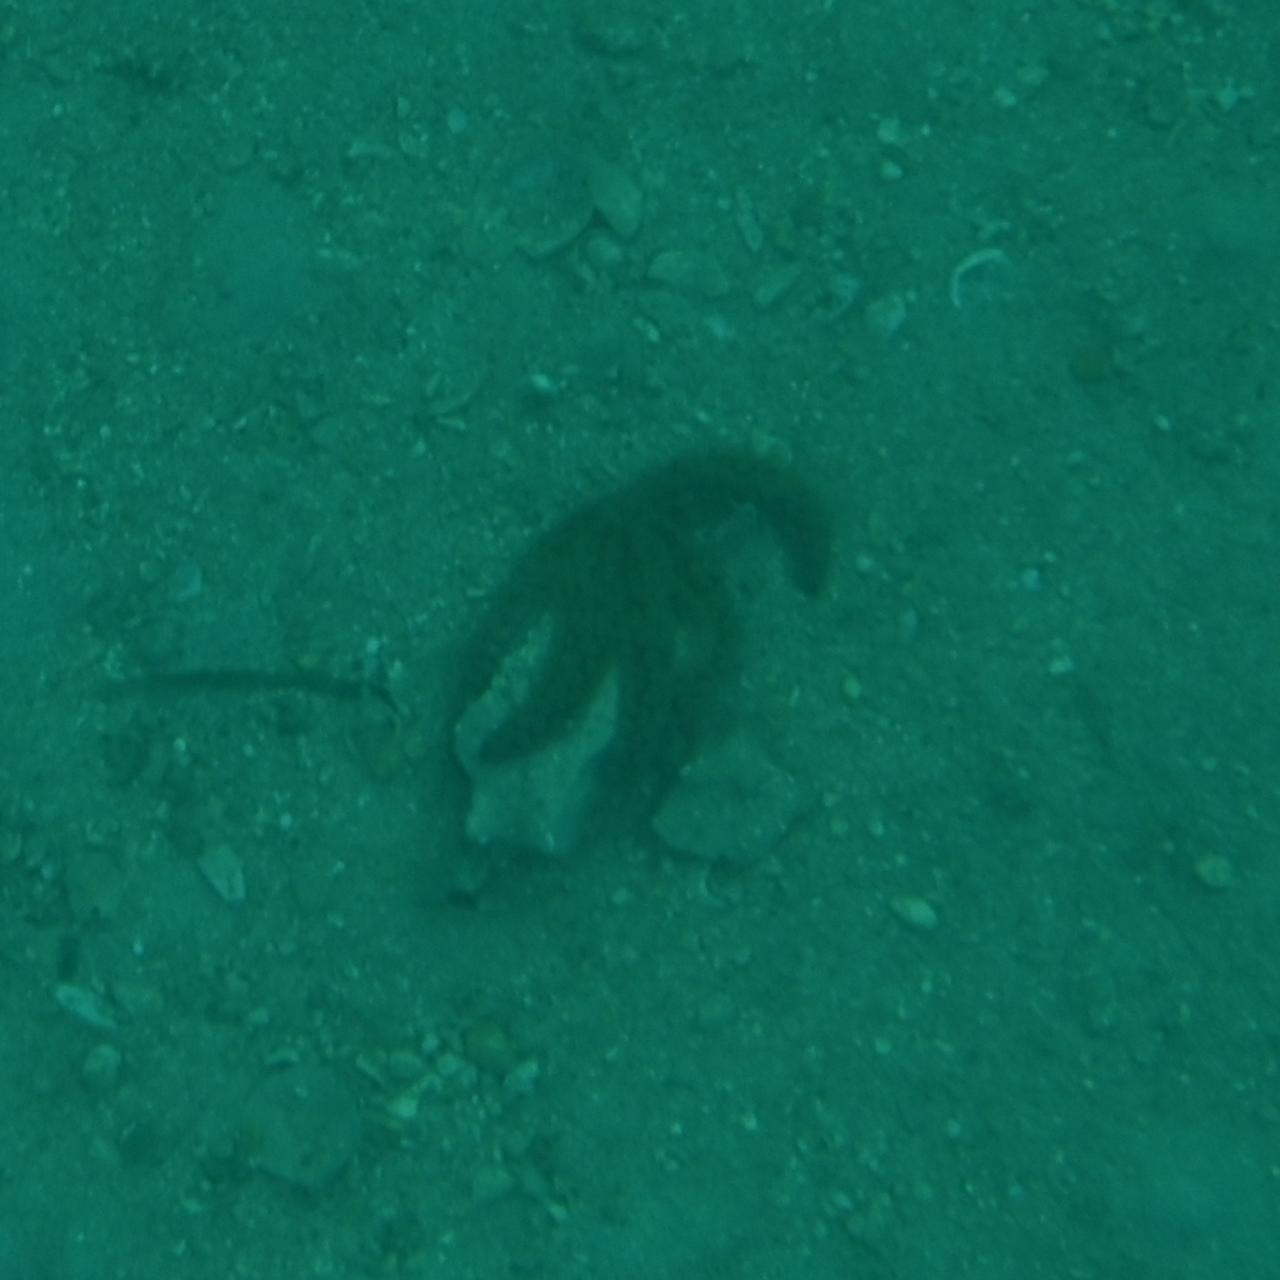-: (430, 429, 850, 851)
